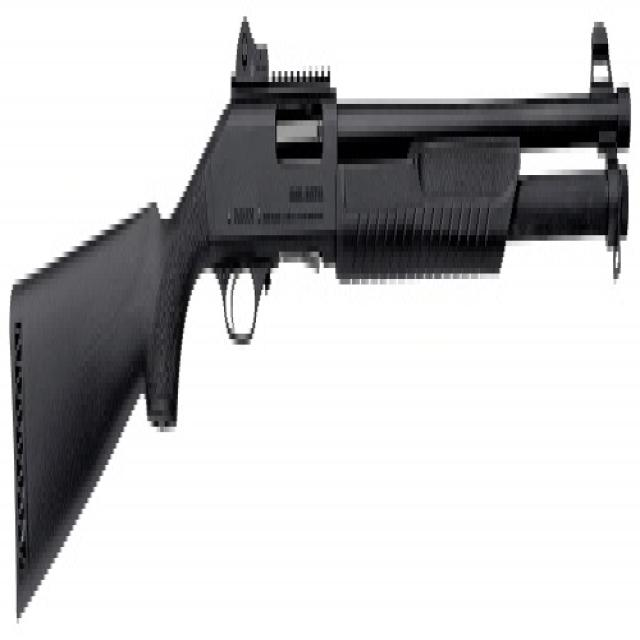rifle: (9, 1, 637, 640)
